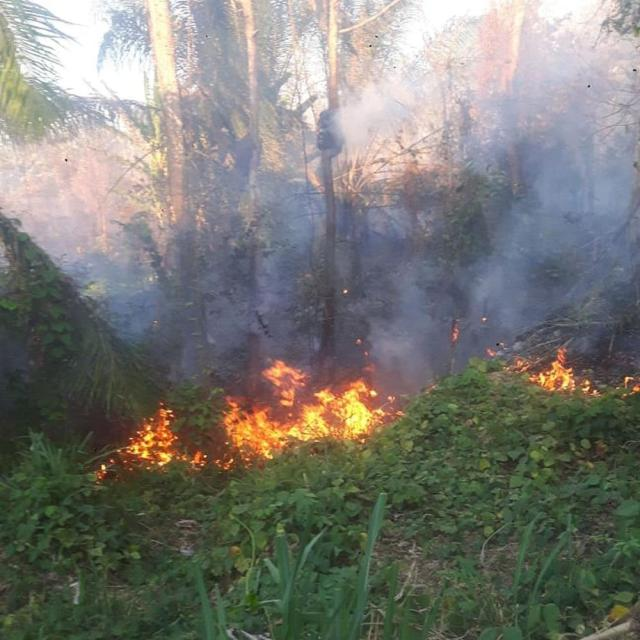Fire: (90, 354, 395, 481), (522, 342, 618, 397)
